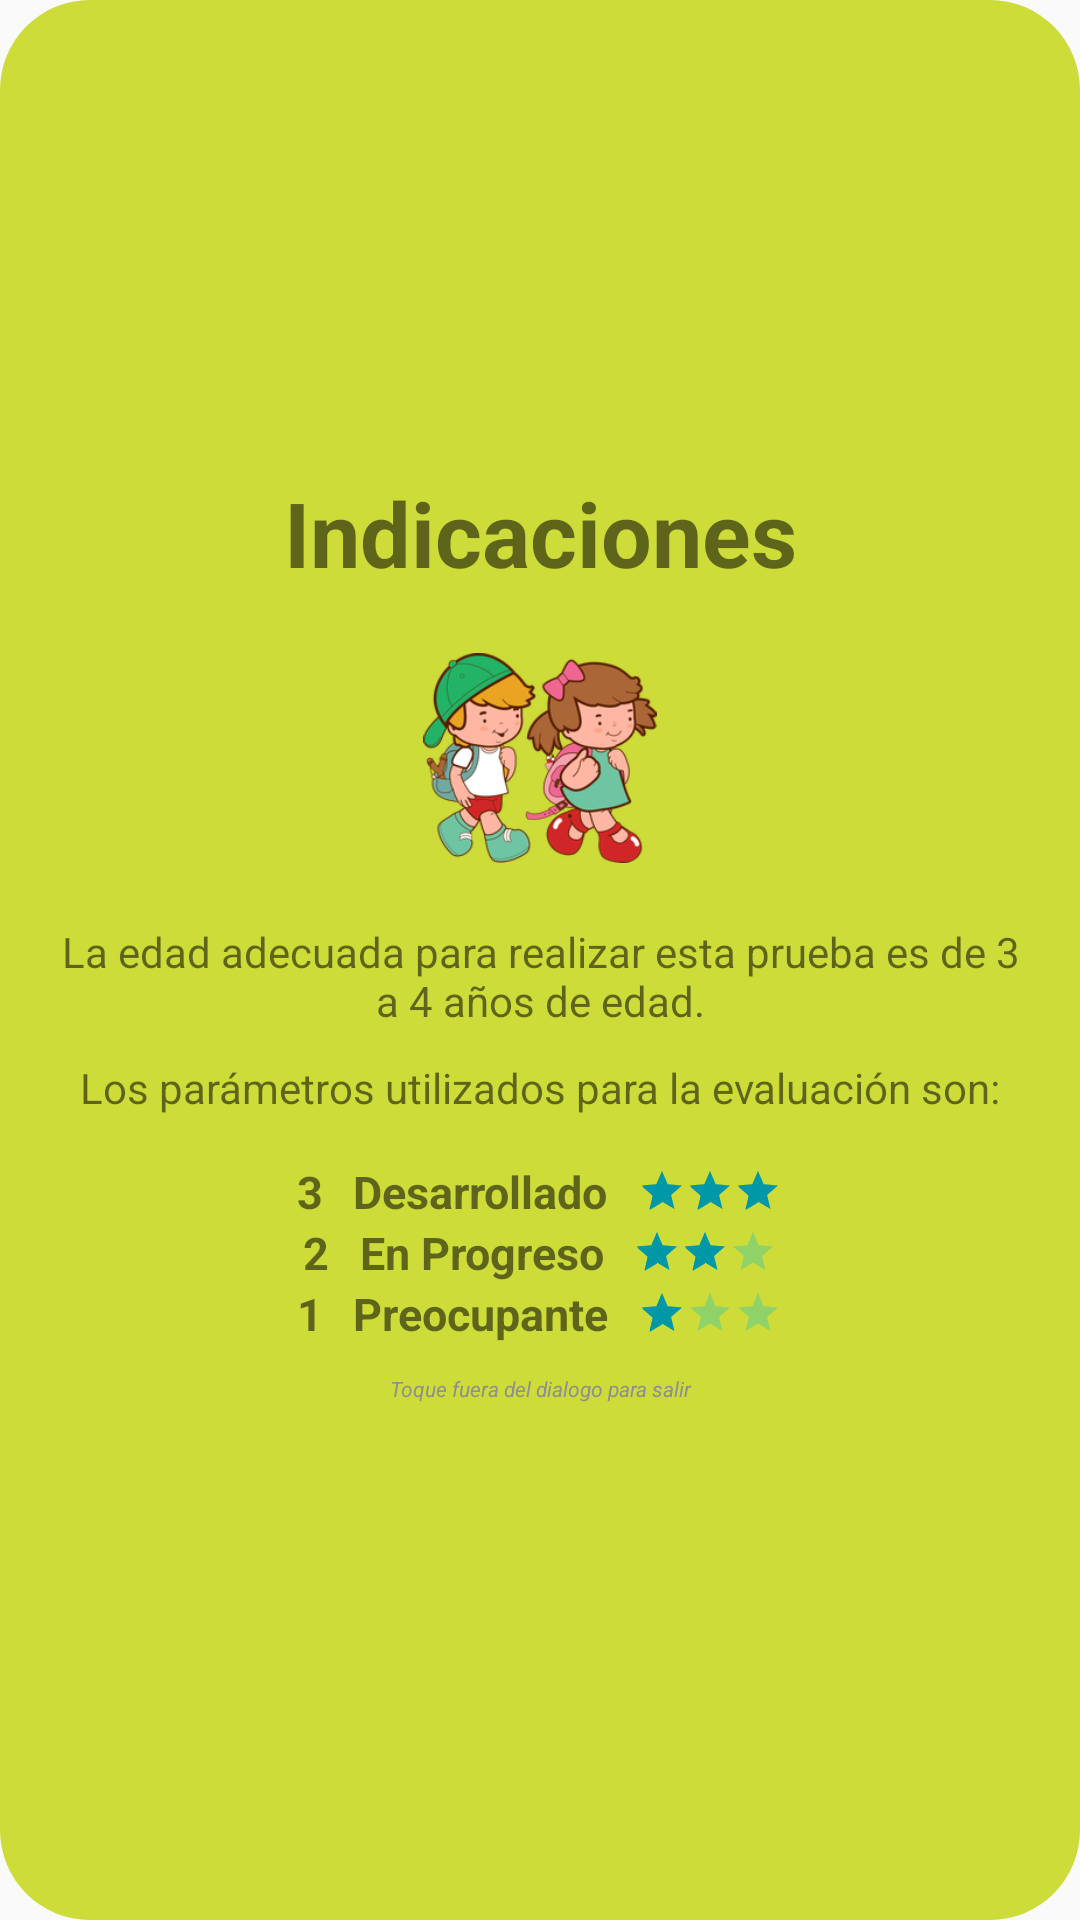

Locate icon controls on the screen. Image size 1080×1920, boxes as box=[x1, y1, x2, y2].
ninos: box=[423, 653, 657, 863]
